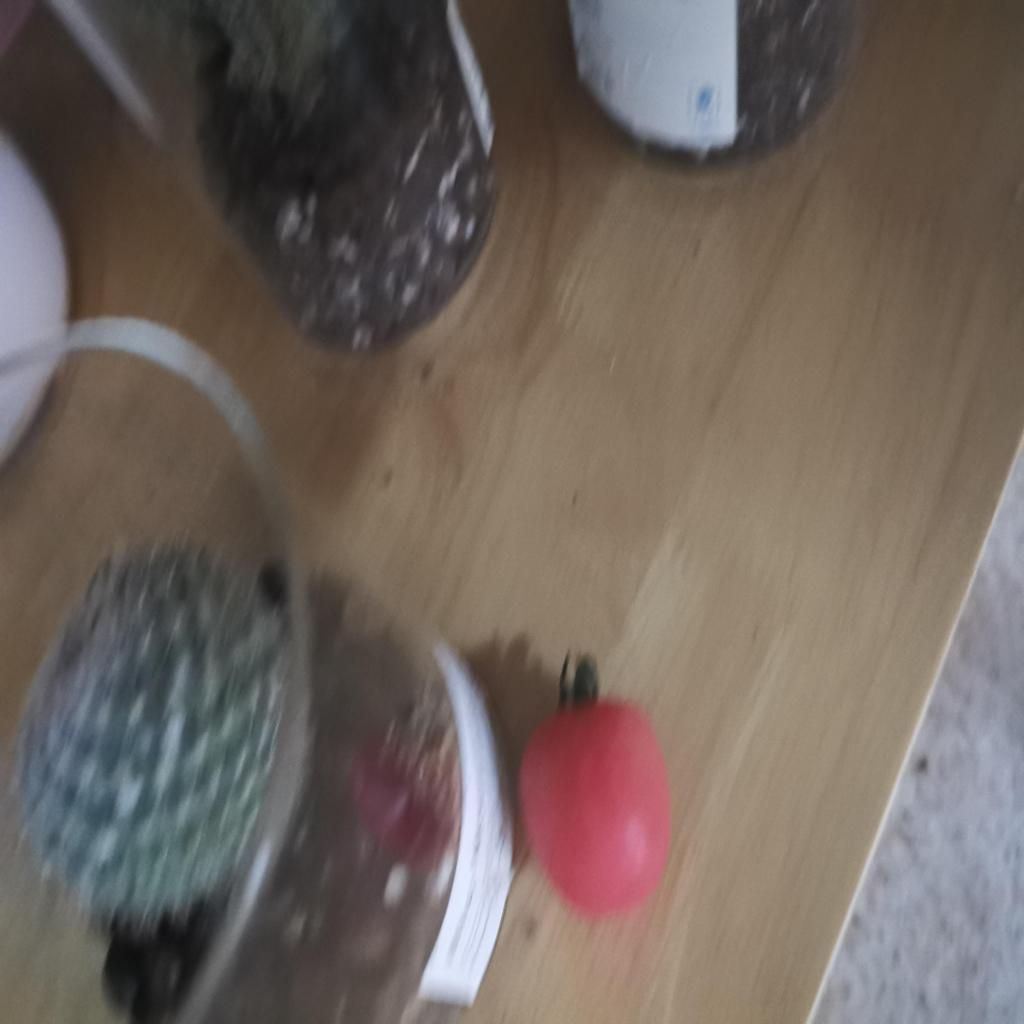tomato: (516, 665, 674, 923)
